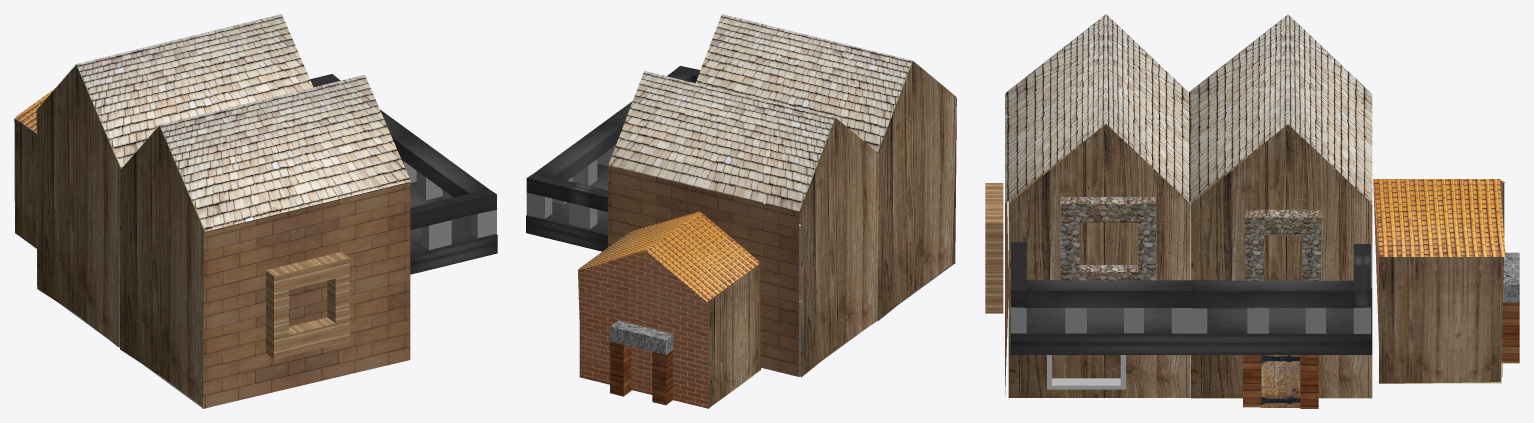
The model's file is casa6.obj.
3 renders of one model, left to right at view 1: azimuth 30°, elevation 25°; view 2: azimuth 150°, elevation 25°; view 3: azimuth 270°, elevation 25°, orthographic. The views are drawn at different scales.
Parts seen in each view (by area): view 1: casa2_parede_lado006, casa2_telhado003, casa2_parede007, casa2_parede008, casa2_telhado002, Box004, sacada_, casa_menor_parede004, sacada_cima_meio003, sacada_poste002, sacada_cima_lado003, casa_menor_telhado001; view 2: casa2_telhado002, casa2_parede008, casa2_parede007, casa2_telhado003, casa2_parede_lado008, casa_menor_parede_lado004, casa_menor_telhado001, casa_menor_parede004, porta003, sacada_, sacada_cima_meio002, sacada_poste002 (+3 smaller); view 3: casa2_parede006, casa2_parede005, casa2_telhado002, casa2_telhado003, casa_menor_parede003, sacada_, casa_menor_telhado001, Box006, sacada_cima_meio002, sacada_cima_meio003, sacada_poste002, porta007 (+8 smaller).
Part boxes in pixels (x1,y1,x2,y2): casa2_parede_lado006: [202, 182, 410, 408]; casa2_telhado003: [121, 75, 410, 231]; casa2_parede007: [120, 126, 203, 406]; casa2_parede008: [36, 65, 120, 347]; casa2_telhado002: [38, 14, 312, 168]; Box004: [266, 252, 349, 358]; sacada_: [410, 182, 497, 274]; casa_menor_parede004: [14, 118, 36, 248]; sacada_cima_meio003: [394, 134, 489, 197]; sacada_poste002: [402, 160, 496, 249]; sacada_cima_lado003: [410, 189, 496, 229]; casa_menor_telhado001: [15, 88, 54, 132]; casa2_telhado002: [608, 71, 837, 211]; casa2_parede008: [800, 118, 878, 377]; casa2_parede007: [877, 61, 956, 321]; casa2_telhado003: [695, 14, 917, 152]; casa2_parede_lado008: [608, 165, 798, 376]; casa_menor_parede_lado004: [579, 250, 709, 408]; casa_menor_telhado001: [578, 211, 760, 301]; casa_menor_parede004: [708, 264, 759, 408]; porta003: [610, 320, 673, 405]; sacada_: [526, 164, 686, 251]; sacada_cima_meio002: [534, 123, 621, 180]; sacada_poste002: [526, 145, 615, 229]; casa2_parede006: [1008, 125, 1190, 397]; casa2_parede005: [1190, 125, 1372, 398]; casa2_telhado002: [1187, 14, 1372, 203]; casa2_telhado003: [1005, 14, 1190, 202]; casa_menor_parede003: [1379, 257, 1503, 383]; sacada_: [1010, 287, 1372, 354]; casa_menor_telhado001: [1373, 179, 1505, 257]; Box006: [1060, 197, 1155, 280]; sacada_cima_meio002: [1192, 280, 1353, 308]; sacada_cima_meio003: [1026, 279, 1191, 307]; sacada_poste002: [1011, 307, 1370, 333]; porta007: [1245, 209, 1321, 280].
Size of the model in its own units: 226 by 185 by 324.
